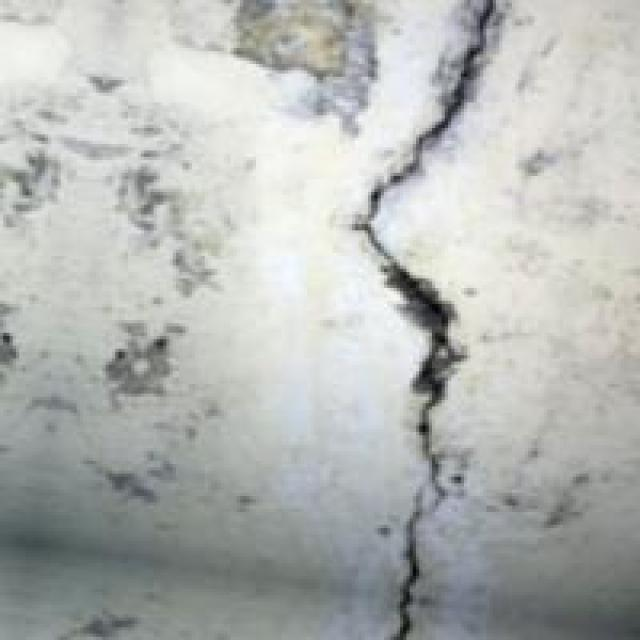Crack: (330, 0, 502, 637)
